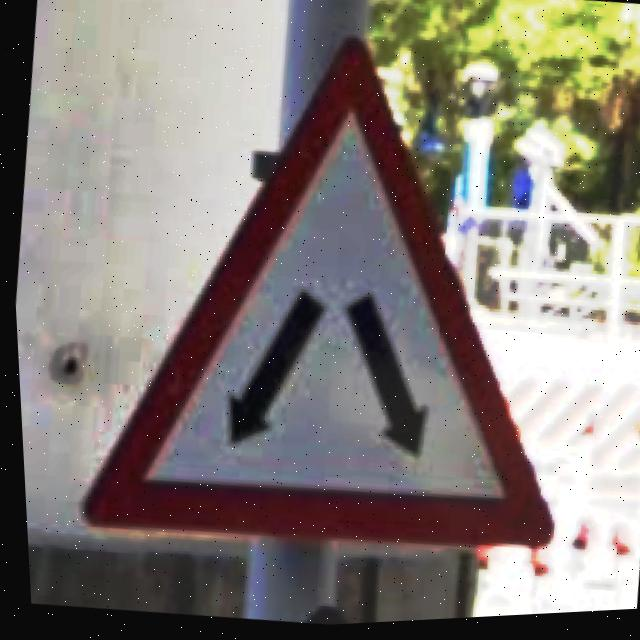diverge: (77, 41, 552, 558)
